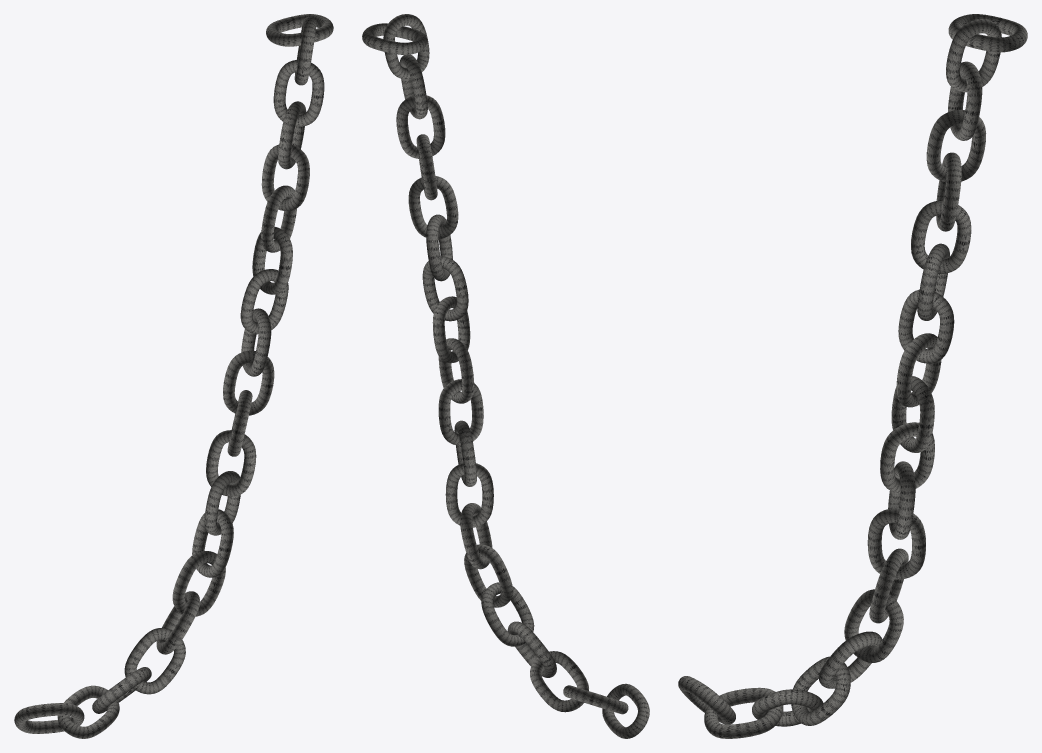
The model's file is Noget1.fbx.
The picture shows the model from 3 angles, left to right: view 1: azimuth 30°, elevation 25°; view 2: azimuth 150°, elevation 25°; view 3: azimuth 330°, elevation 25°; orthographic projection. The views are drawn at different scales.
Parts seen in each view (by area): view 1: obj4, obj18, obj9, obj11, obj16, obj6, obj1, obj13, obj2, obj7, obj14, obj15 (+8 smaller); view 2: obj8, obj15, obj17, obj3, obj10, obj5, obj13, obj6, obj19, obj1, obj12, obj11 (+8 smaller); view 3: obj15, obj17, obj2, obj8, obj20, obj13, obj6, obj10, obj4, obj12, obj11, obj18 (+8 smaller).
Boxes of the visible parts, bbox=[...] form: obj4: bbox=[124, 628, 185, 694]; obj18: bbox=[273, 59, 324, 126]; obj9: bbox=[206, 430, 256, 496]; obj11: bbox=[223, 350, 274, 415]; obj16: bbox=[261, 144, 309, 210]; obj6: bbox=[172, 551, 225, 616]; obj1: bbox=[14, 703, 84, 733]; obj13: bbox=[240, 269, 288, 334]; obj2: bbox=[57, 685, 119, 738]; obj7: bbox=[192, 509, 233, 577]; obj14: bbox=[252, 227, 292, 294]; obj15: bbox=[261, 185, 296, 252]; obj8: bbox=[445, 463, 493, 527]; obj15: bbox=[408, 176, 458, 239]; obj17: bbox=[396, 95, 445, 158]; obj3: bbox=[530, 651, 588, 712]; obj10: bbox=[438, 379, 483, 445]; obj5: bbox=[481, 582, 534, 646]; obj13: bbox=[422, 256, 468, 321]; obj6: bbox=[464, 544, 512, 607]; obj19: bbox=[362, 23, 427, 54]; obj1: bbox=[602, 683, 649, 738]; obj12: bbox=[432, 296, 470, 363]; obj11: bbox=[438, 338, 474, 403]; obj15: bbox=[911, 200, 971, 273]; obj17: bbox=[926, 110, 986, 182]; obj2: bbox=[704, 687, 783, 738]; obj8: bbox=[867, 508, 925, 579]; obj20: bbox=[946, 19, 1001, 92]; obj13: bbox=[898, 289, 954, 363]; obj6: bbox=[844, 589, 903, 662]; obj10: bbox=[880, 422, 934, 492]; obj4: bbox=[791, 656, 850, 725]; obj12: bbox=[896, 333, 941, 407]; obj11: bbox=[891, 376, 934, 452]; obj18: bbox=[948, 61, 982, 140].
Bounding box in the file's own units: 172331 × 364045 × 39499.
